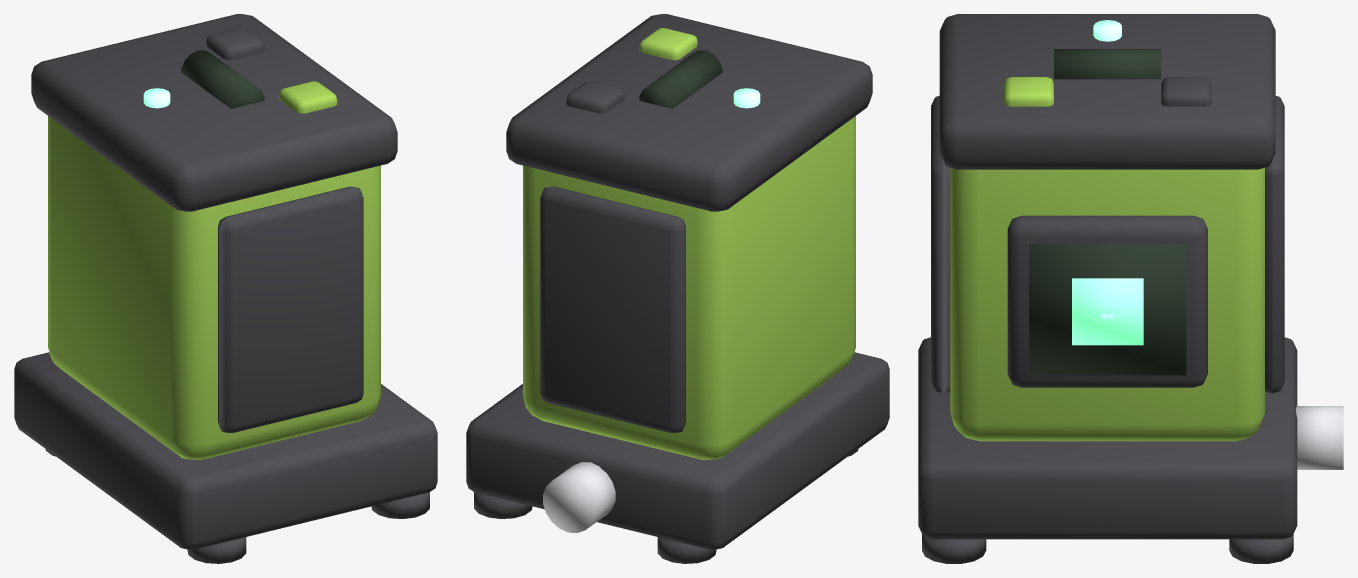
Rendered from laser-level-DqDPOHJe.glb.
The picture shows the model from 3 angles, left to right: view 1: azimuth 30°, elevation 25°; view 2: azimuth 150°, elevation 25°; view 3: azimuth 270°, elevation 25°; orthographic projection. The views are drawn at different scales.
Visible parts, largest first — view 1: Body; view 2: Body; view 3: Body.
Part boxes in pixels (x1=…): Body: x1=14, y1=14, x2=437, y2=563; Body: x1=466, y1=14, x2=889, y2=563; Body: x1=918, y1=14, x2=1343, y2=563.
Bounding box in the file's own units: 0.0902 × 0.137 × 0.119.
